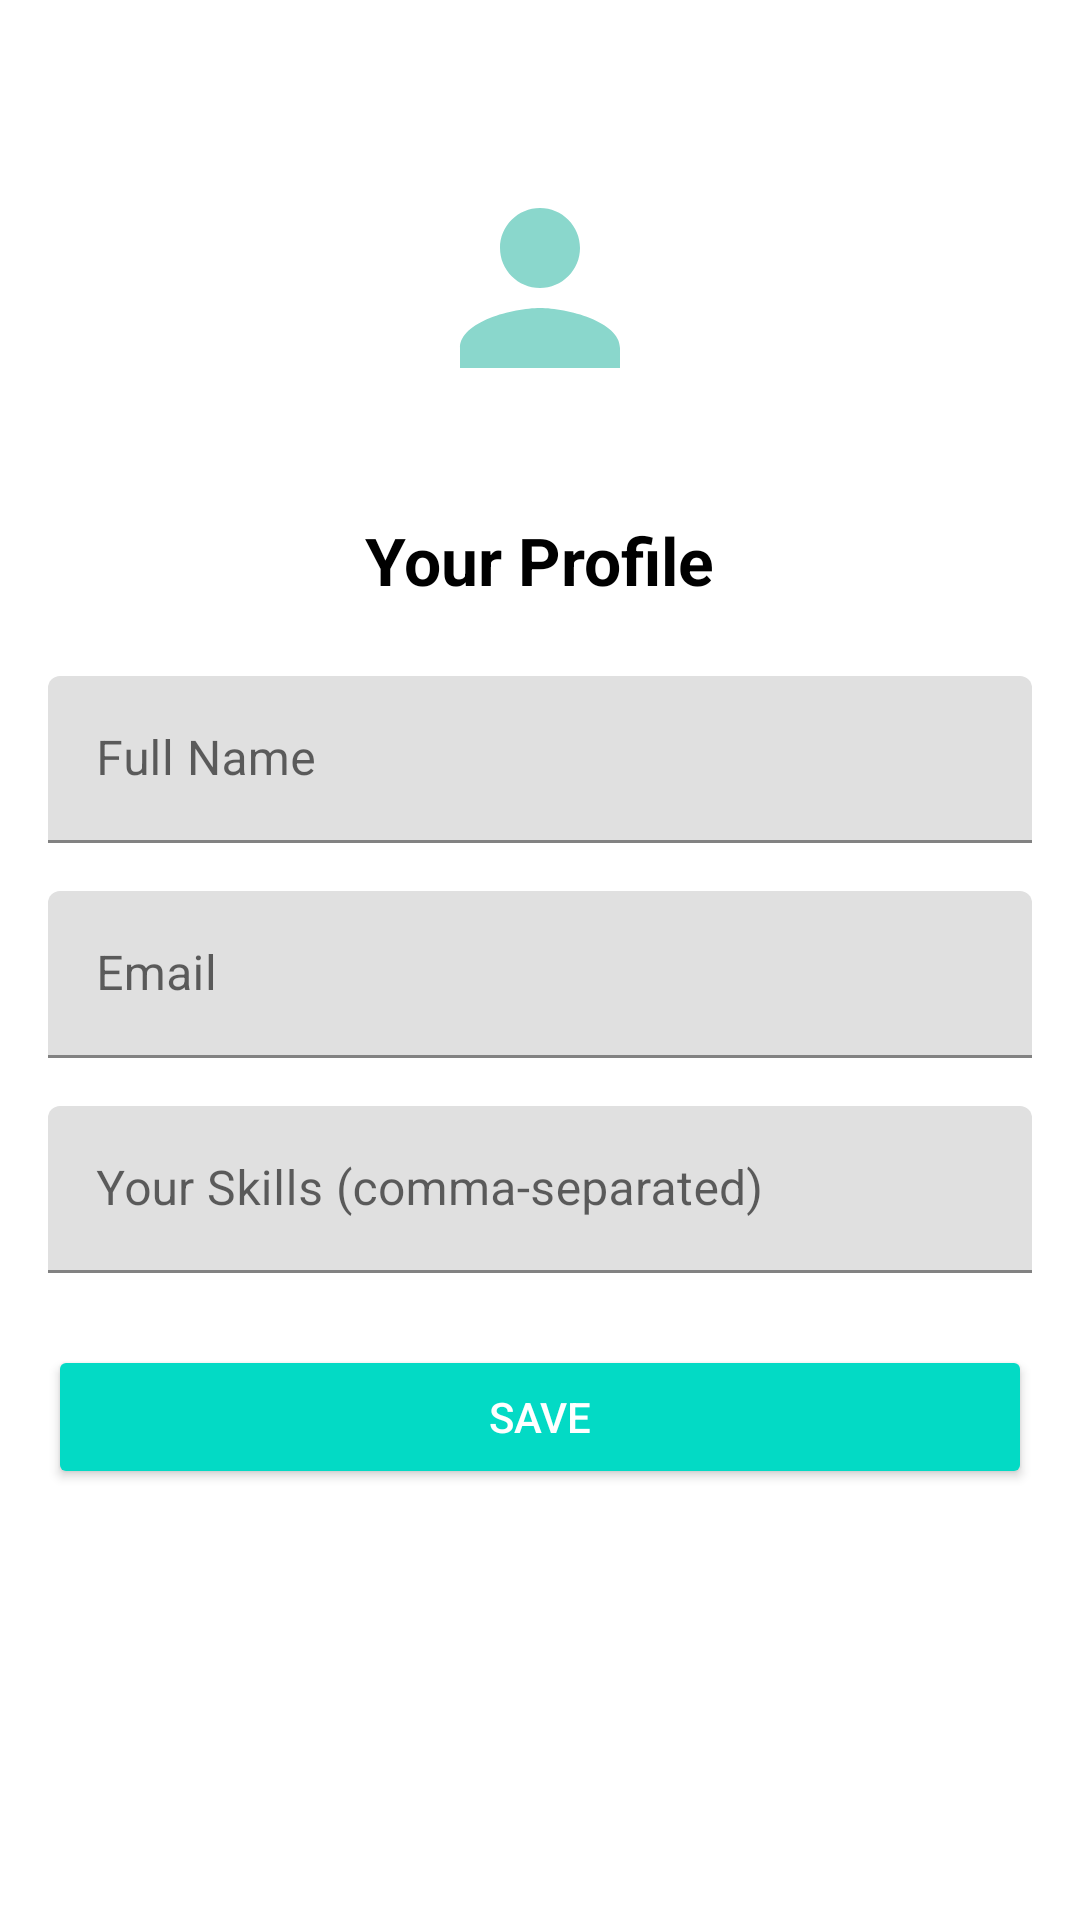

Icons on this 1080×1920 Android screen, each with the point to tap as (x,y):
person: (540,288)
